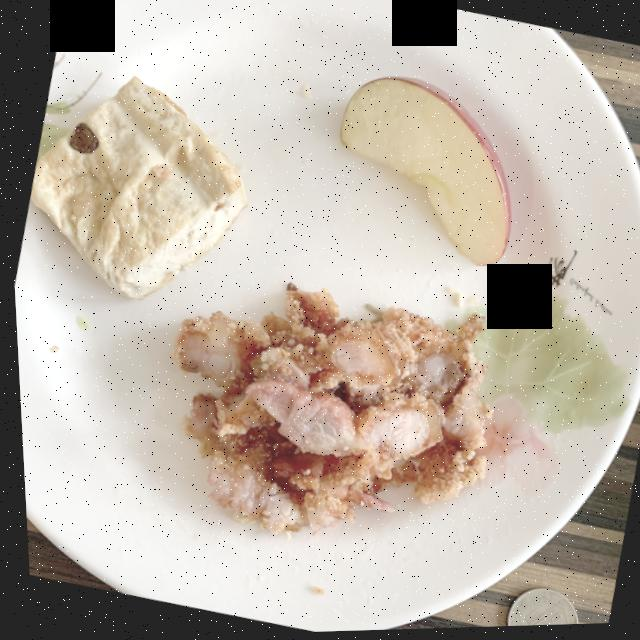apple -sliced-: (338, 79, 508, 268)
coin: (500, 591, 571, 629)
red grilled pork: (168, 287, 487, 536)
